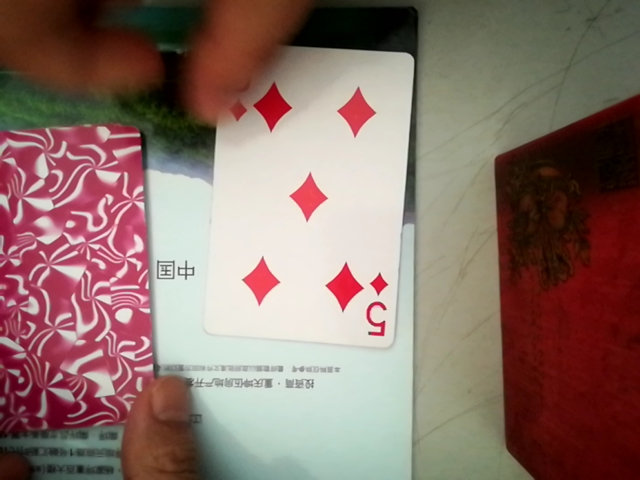fk 5: (199, 44, 413, 354)
